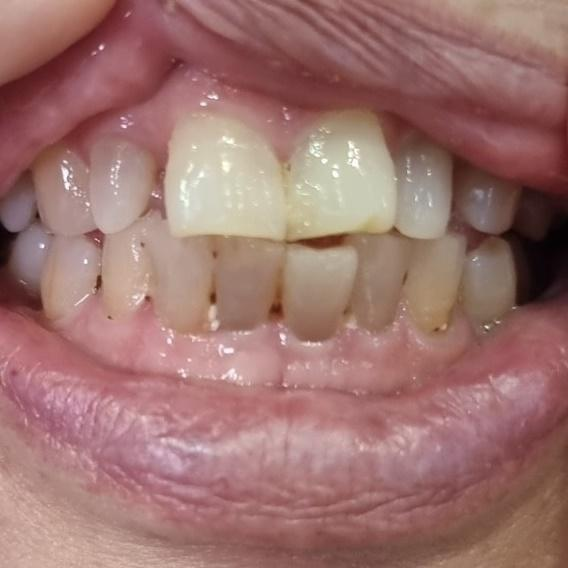Crowding: (276, 231, 403, 330)
Gap: (93, 126, 219, 231)
